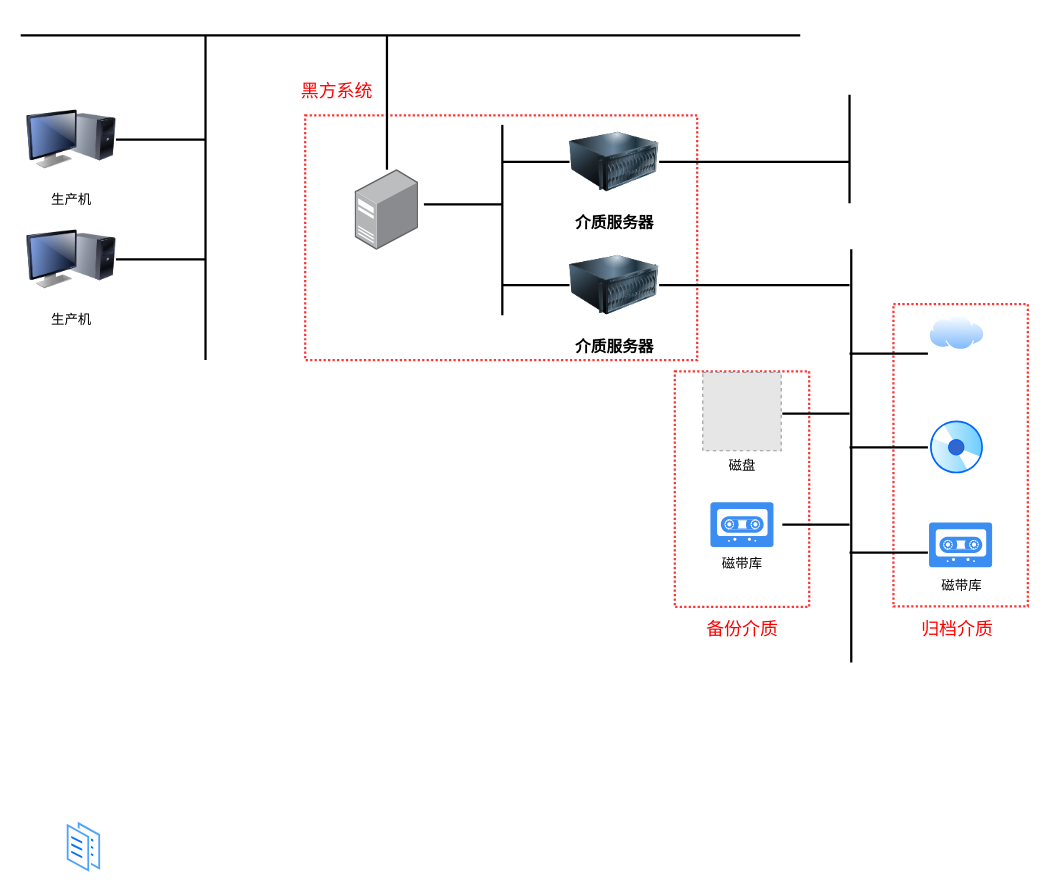
Some shapes in this 1048 by 894 pixel diagram are drawn without their labels. Grey dashed boxes stand in for pictures. Here are the shapes that lost their labels. From the top down, the centre of each, then its label:
(x=386, y=209): 主控服务器
(x=956, y=332): 云存储
(x=956, y=447): 光盘库
